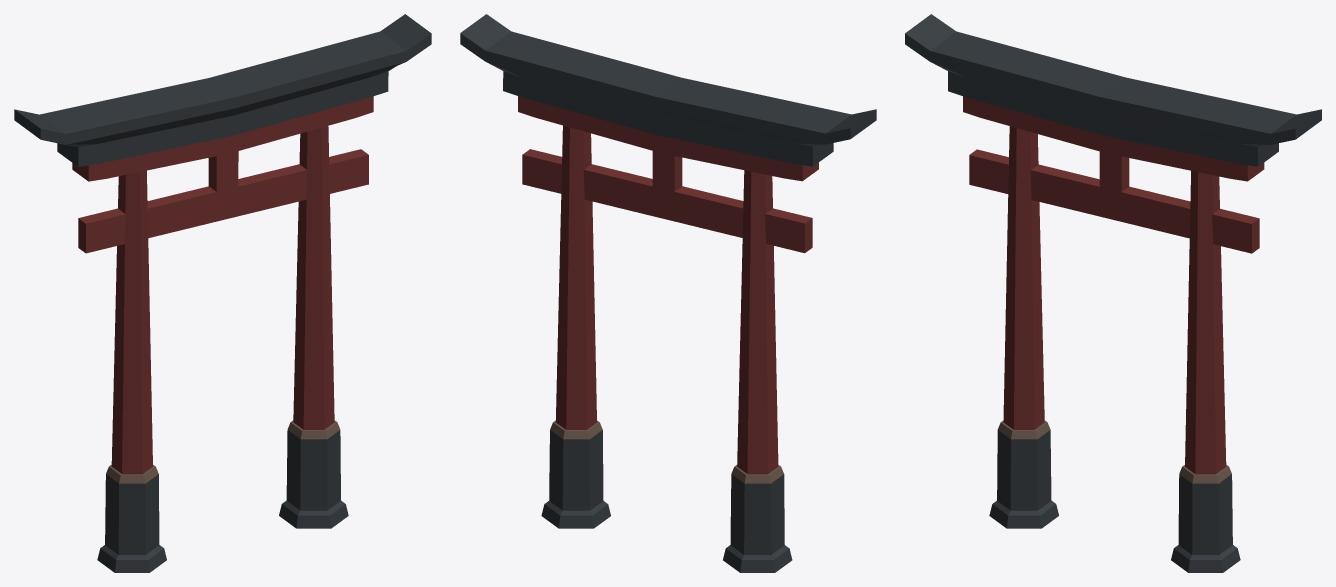
File: Tori.glb
3 renders of one model, left to right at view 1: azimuth 30°, elevation 25°; view 2: azimuth 150°, elevation 25°; view 3: azimuth 330°, elevation 25°, orthographic.
Parts seen in each view (by area): view 1: Cylinder_0, Cylinder_1, Cylinder_2; view 2: Cylinder_0, Cylinder_1, Cylinder_2; view 3: Cylinder_0, Cylinder_1, Cylinder_2.
Boxes of the visible parts, x1,y1,x2,y2 form: Cylinder_0: (72, 96, 373, 474); Cylinder_1: (14, 14, 431, 572); Cylinder_2: (106, 420, 340, 483); Cylinder_0: (518, 96, 818, 474); Cylinder_1: (460, 14, 876, 572); Cylinder_2: (550, 420, 783, 483); Cylinder_0: (963, 96, 1264, 474); Cylinder_1: (905, 14, 1321, 572); Cylinder_2: (997, 420, 1231, 483).
Bounding box in the file's own units: 4.14 × 4.73 × 0.6405.
